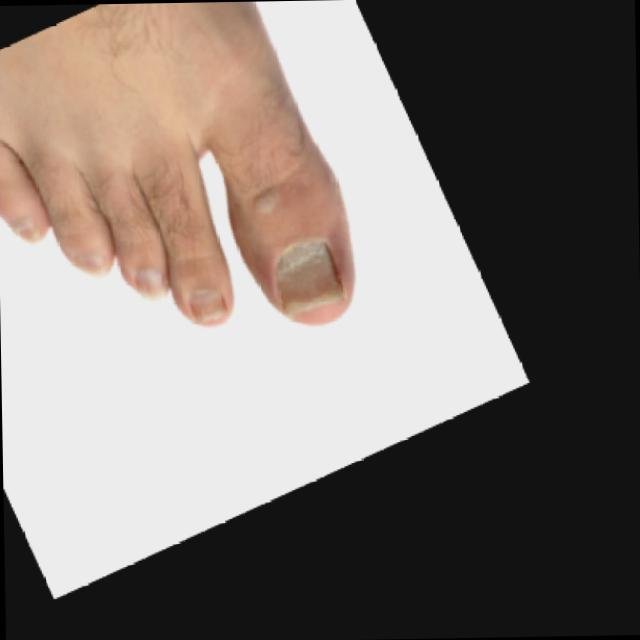Nail: (278, 242, 344, 316), (190, 289, 226, 323), (6, 215, 48, 241), (137, 269, 167, 298), (75, 254, 113, 274)
